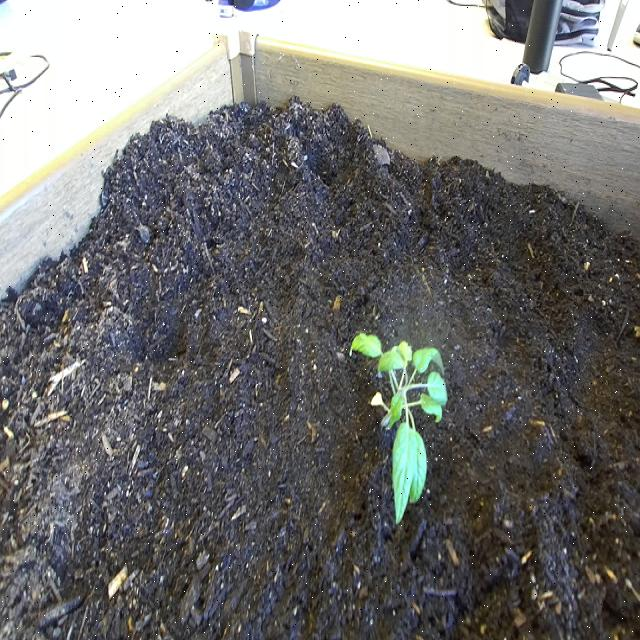Healthy: (344, 326, 454, 524)
